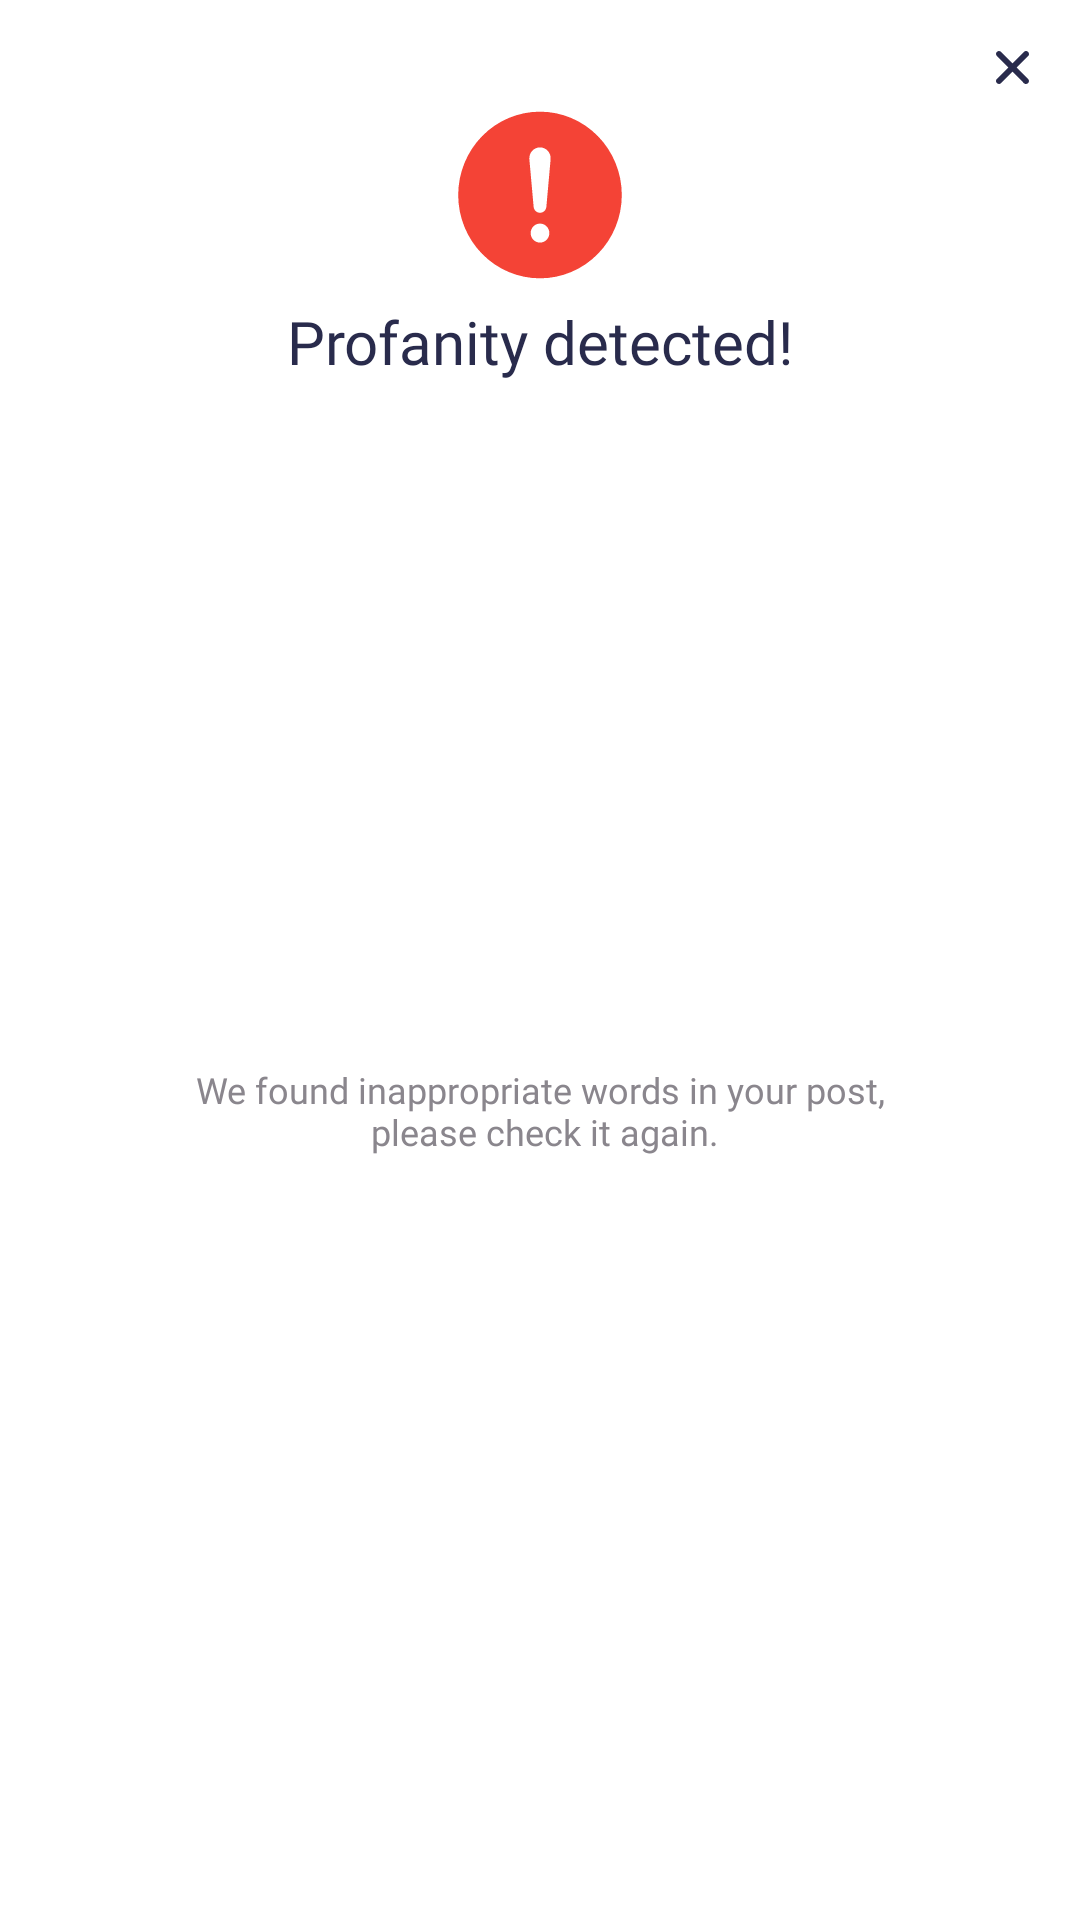

Named icons in this screenshot (1080px x 1920px) and their bounding boxes, (left=x1, top=y1, right=x2, bottom=y2):
cross exit: (left=996, top=51, right=1029, bottom=84)
warning: (left=458, top=111, right=622, bottom=279)
